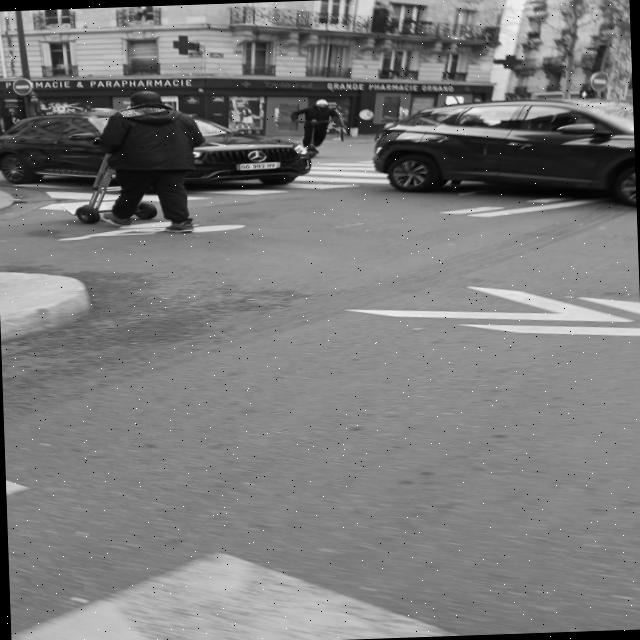EU: (234, 161, 282, 170)
France: (235, 163, 240, 170)
